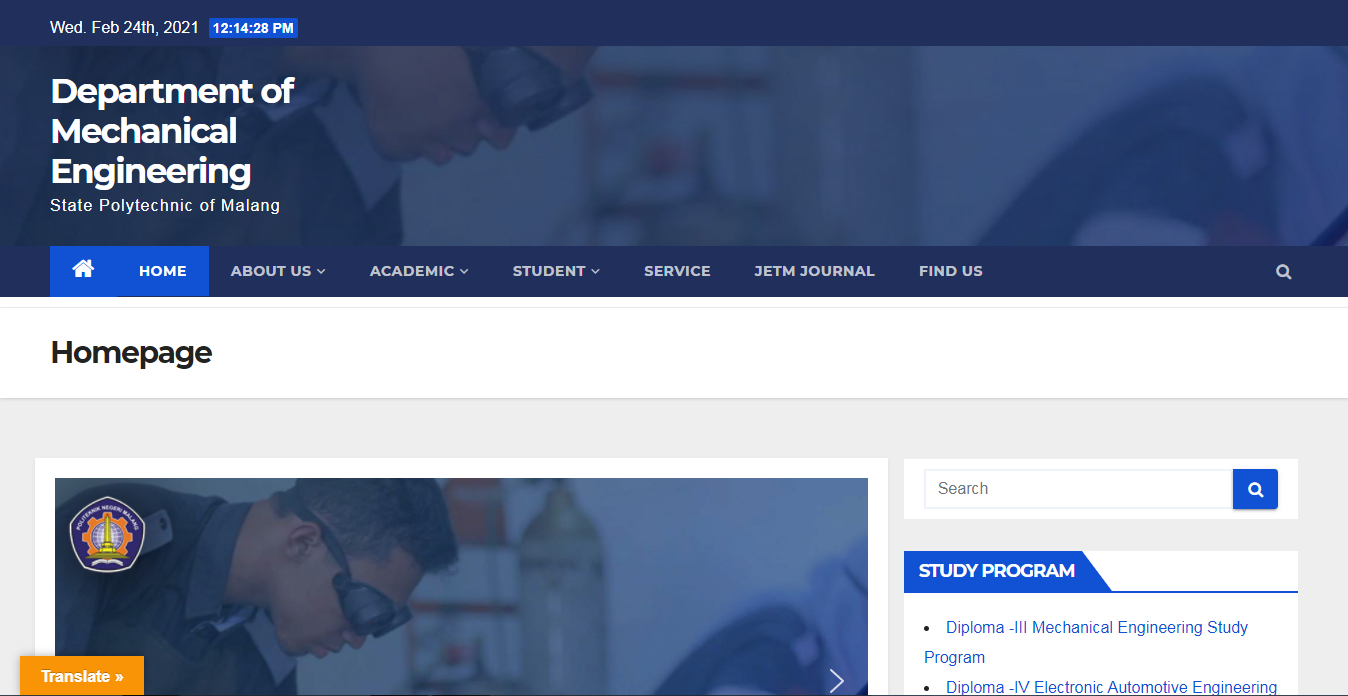Button: (1232, 467, 1281, 512)
Image: (2, 48, 1348, 245), (52, 477, 865, 696)
Menu Bar: (50, 249, 986, 296)
Nav Bar: (919, 611, 1251, 667), (921, 673, 1282, 696)
Side Bar: (901, 455, 1302, 696)
Text Field: (923, 465, 1232, 514)
